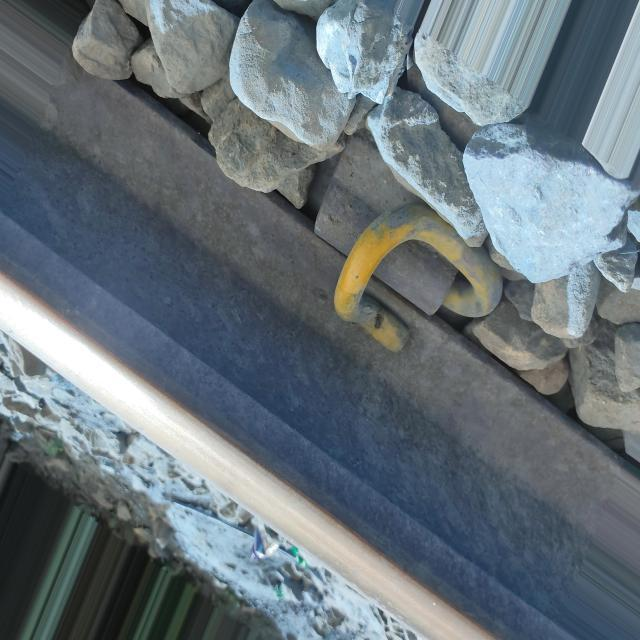Good Fasteners: (260, 98, 541, 410)
